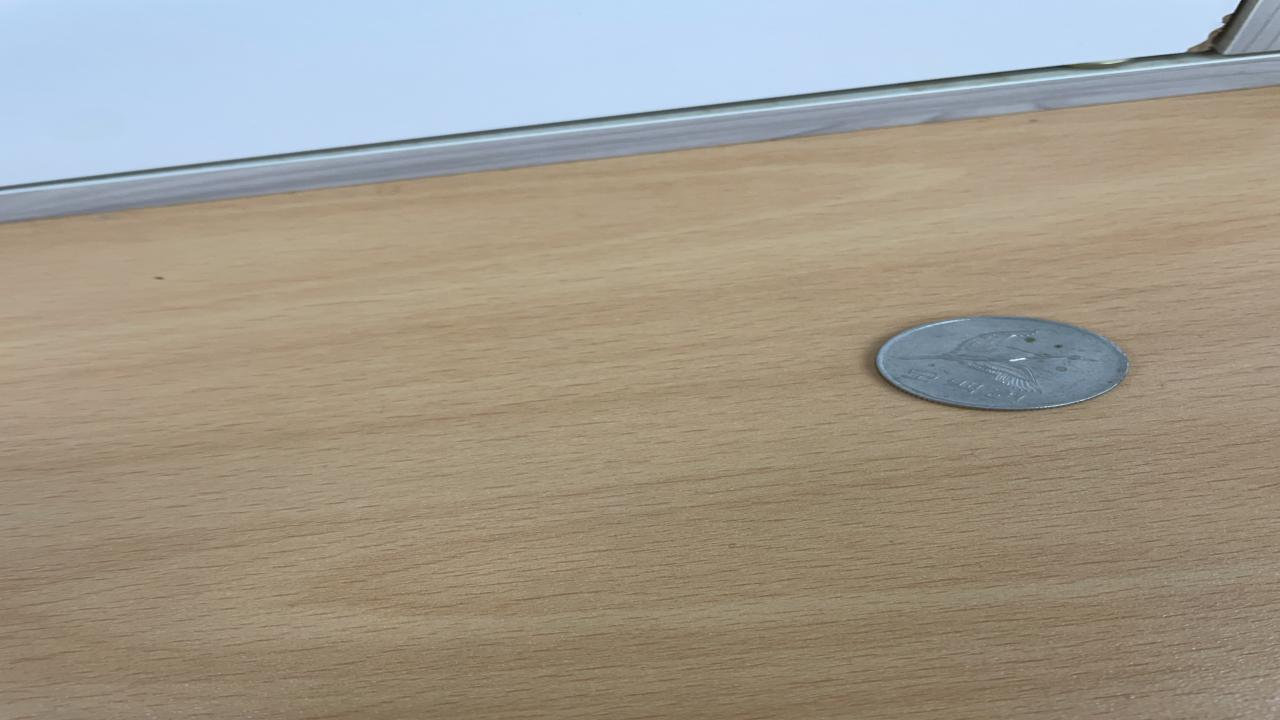coin: (870, 314, 1132, 410)
